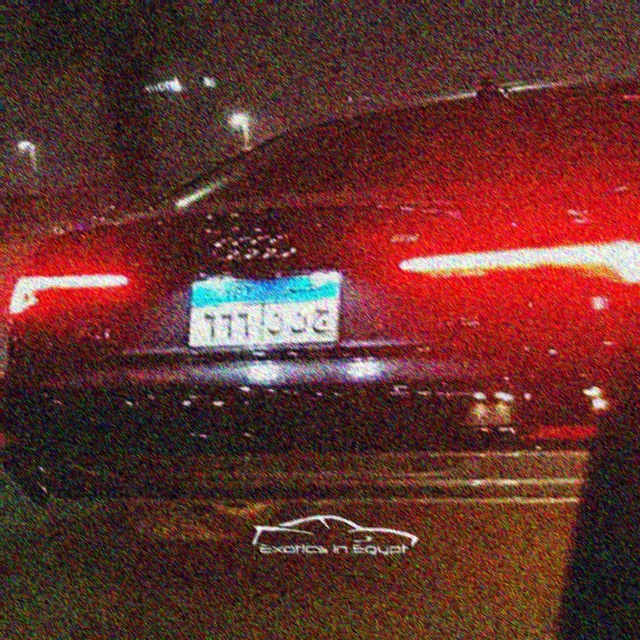License Plate: (183, 268, 344, 350)
